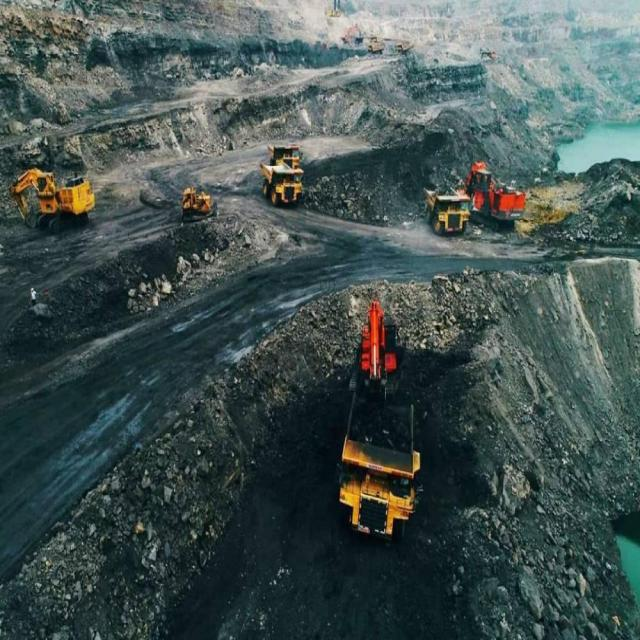buldozerpayloadergrader: (176, 187, 220, 221)
dump_truck: (336, 384, 425, 540), (259, 152, 305, 211), (425, 184, 468, 244), (275, 143, 301, 166)
excavator: (9, 161, 96, 242), (354, 294, 408, 400), (470, 155, 530, 235)
